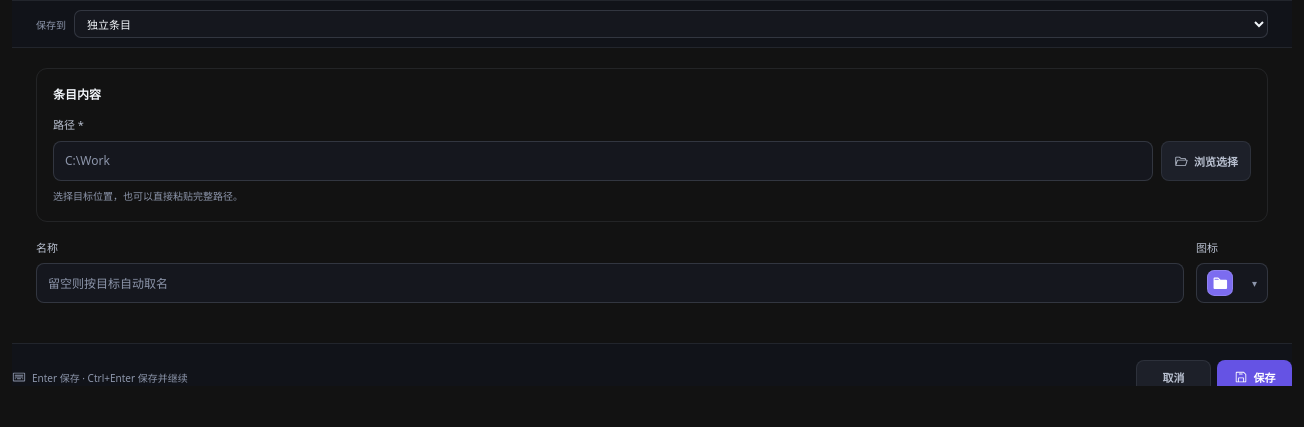
Test case: ItemForm validation › a missing target › is explained under the folders field and takes the cursor
The width and height of the screenshot is (1304, 427).
Type "Thing" into the field with test id "item-name-input" at (610, 283), box left=36, top=263, right=1184, bottom=303
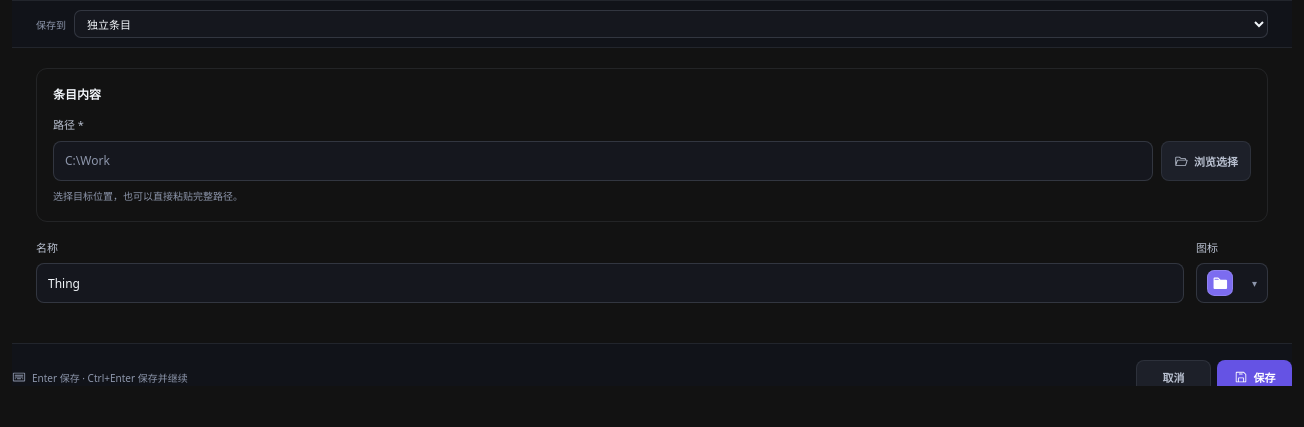
Click the button with test id "item-save" at (1254, 377), box left=1217, top=360, right=1292, bottom=394
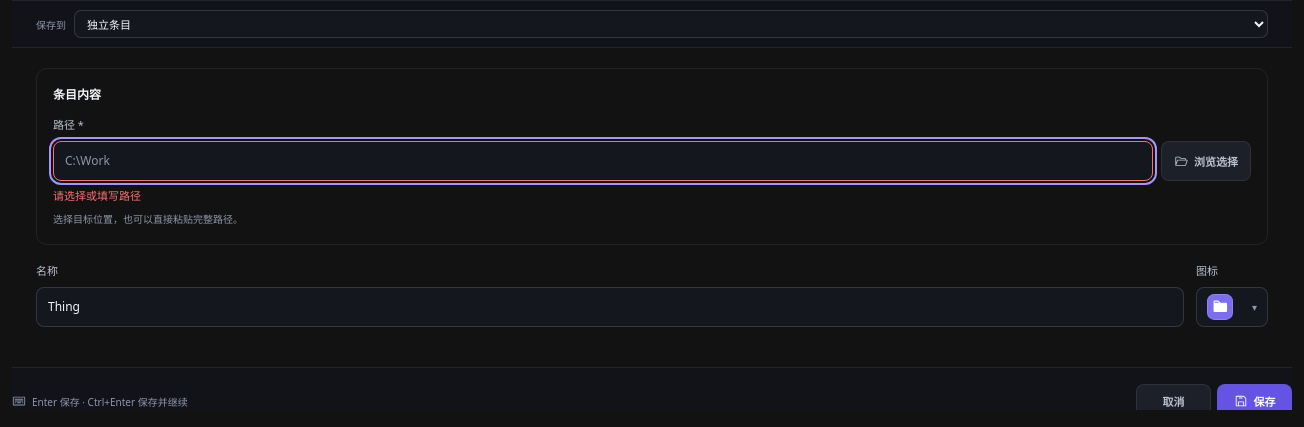
Now the message reads "请选择或填写路径", box left=53, top=188, right=141, bottom=202
